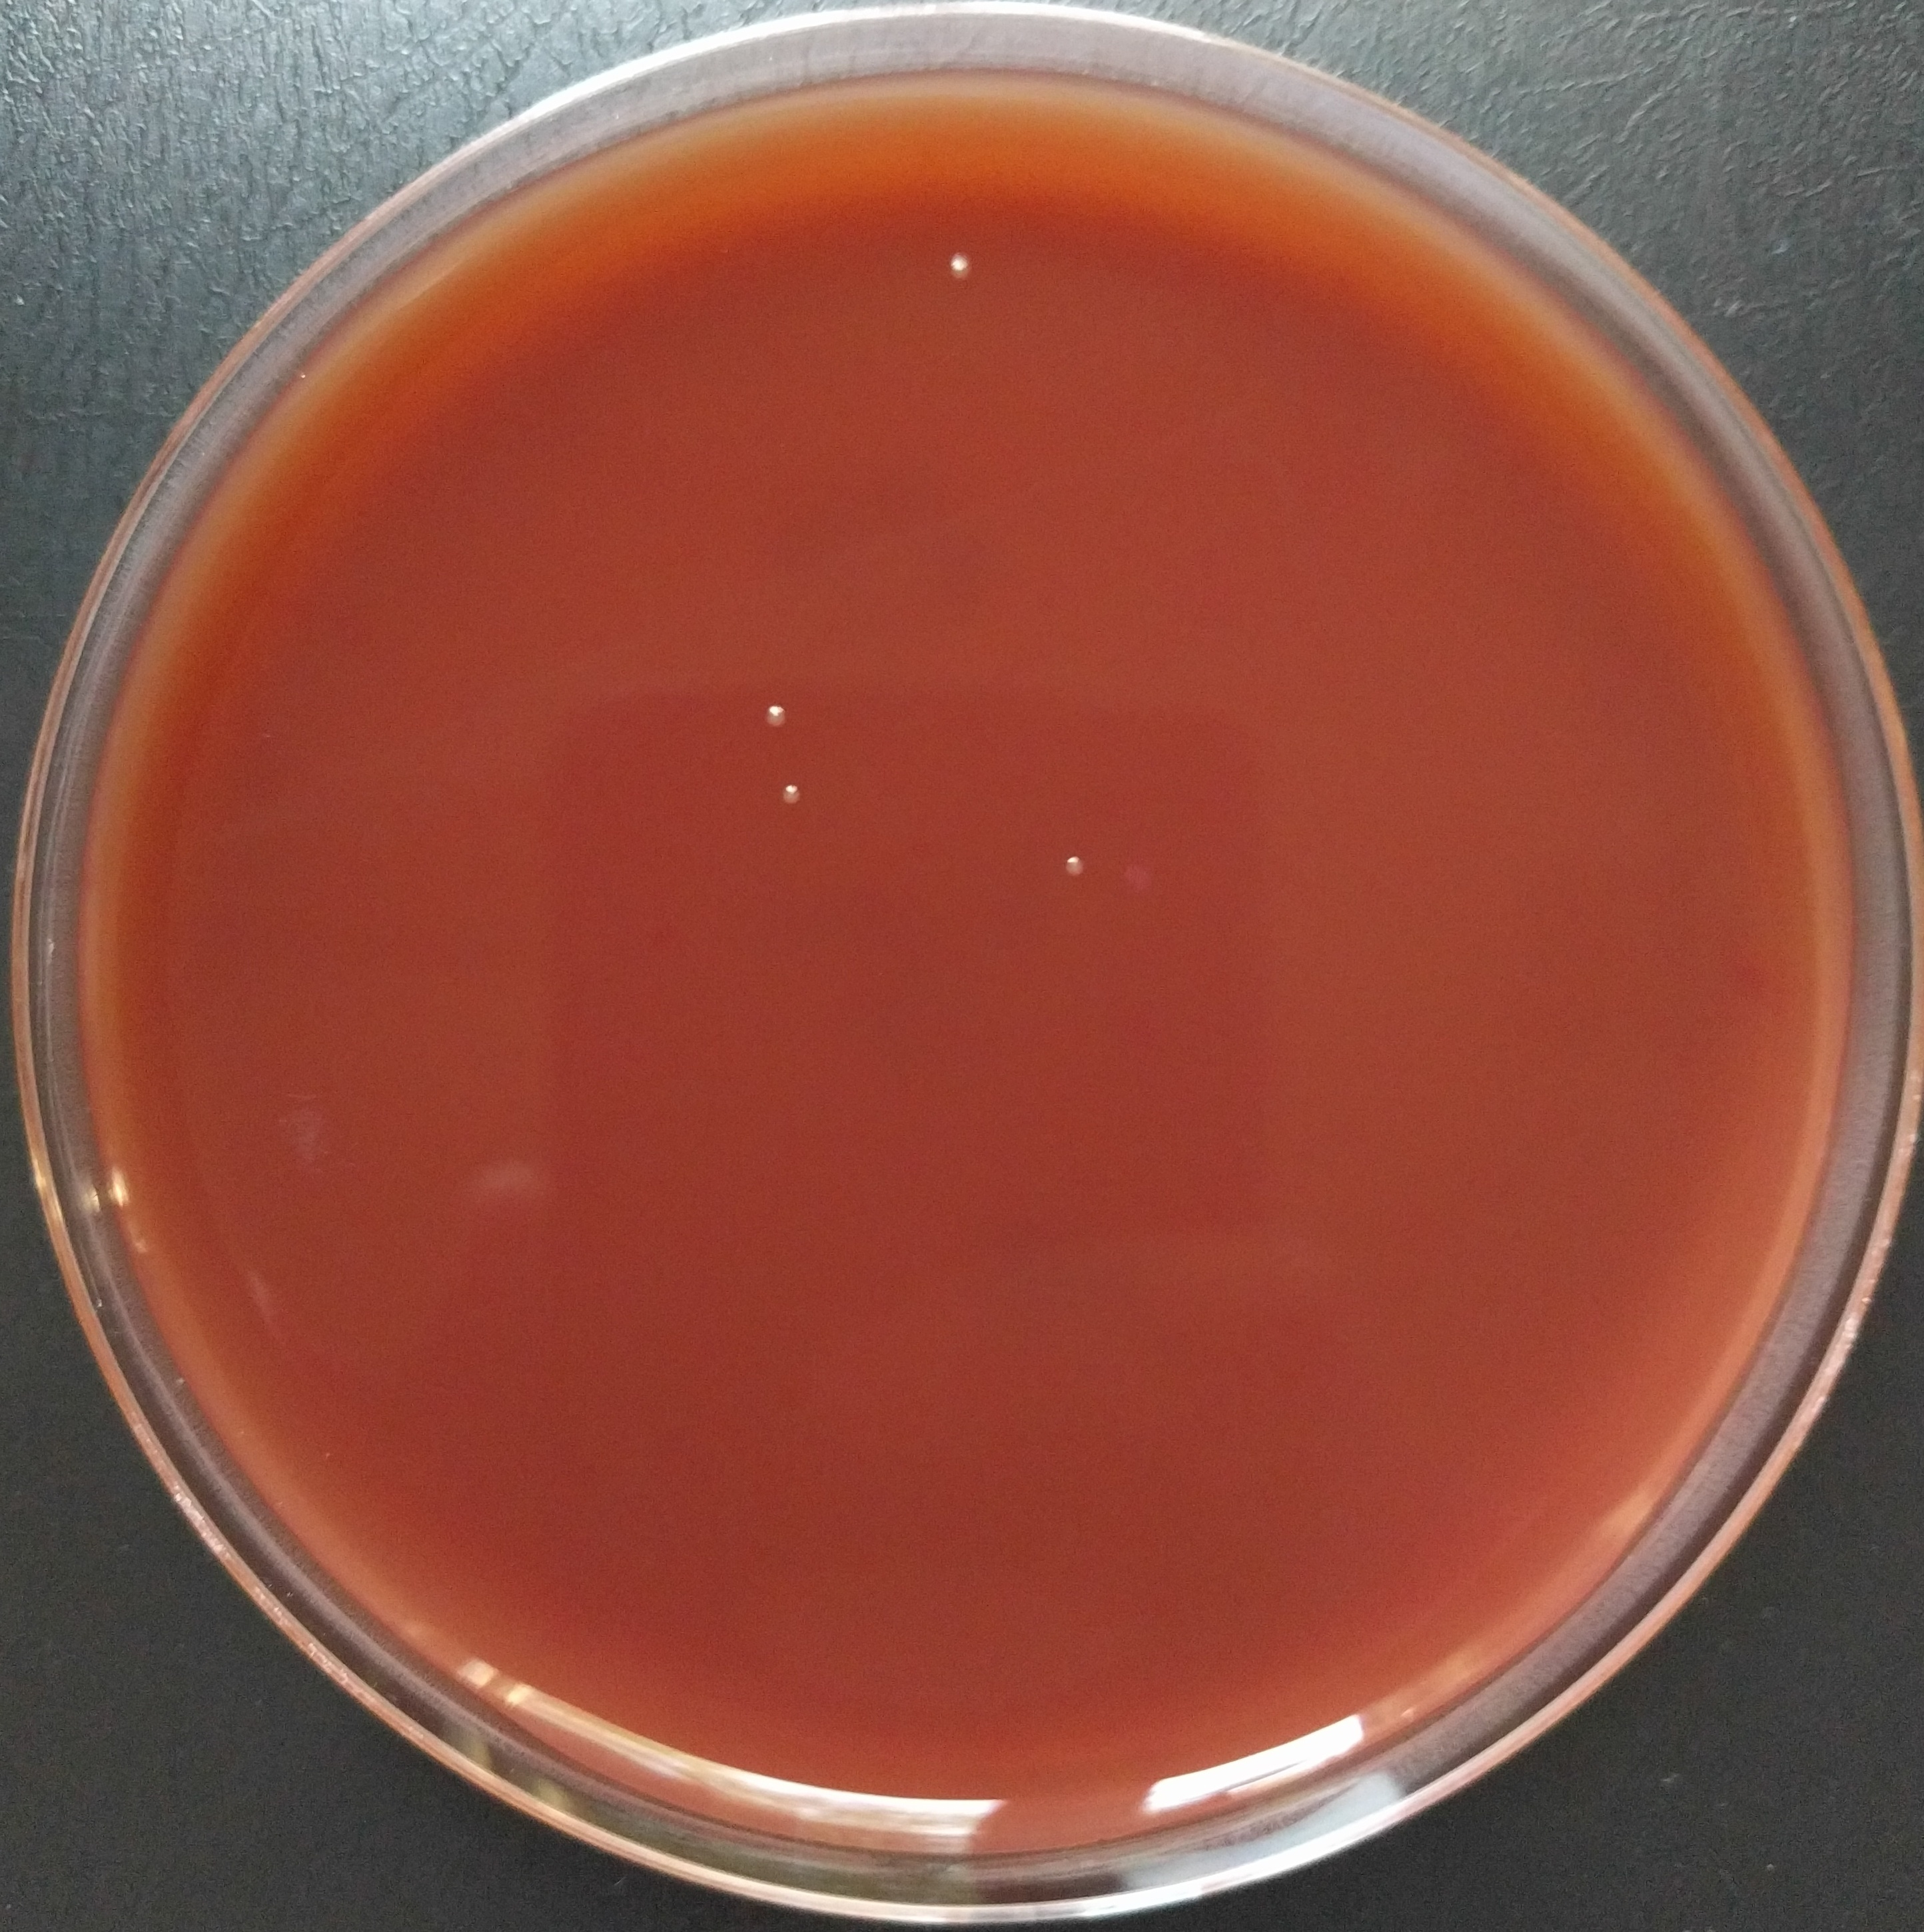sp07: (756, 692, 802, 731), (939, 247, 976, 285), (1055, 851, 1092, 886), (773, 775, 809, 805)
